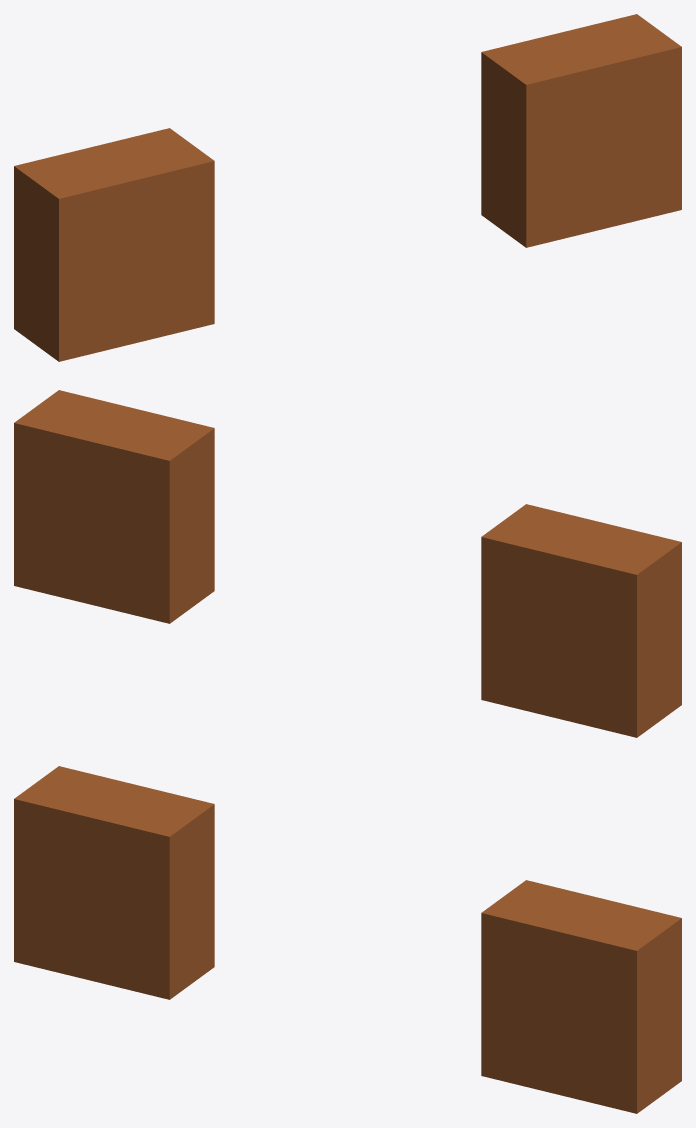
File: nave2-laranja.obj
The picture shows the model from 3 angles, top to bottom: view 1: azimuth 30°, elevation 25°; view 2: azimuth 150°, elevation 25°; view 3: azimuth 330°, elevation 25°; orthographic projection.
Size of the model in its own units: 0.8 by 0.2 by 0.1.
Materials: 1 (1 with a texture image).
